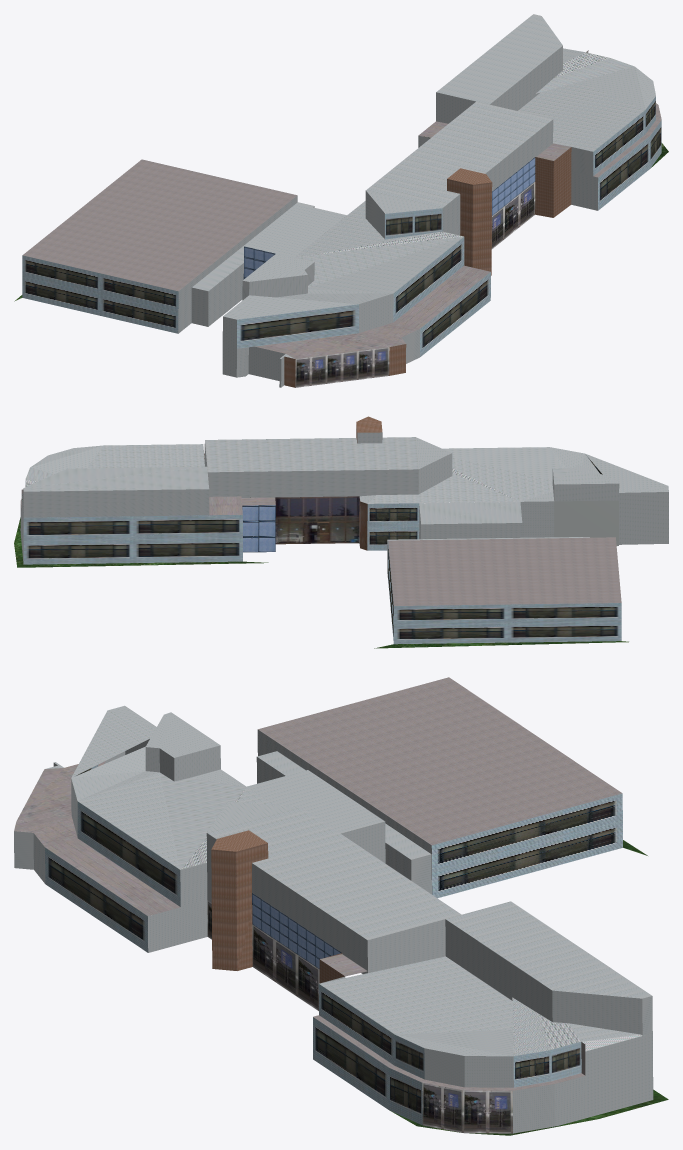
Rendered from MastersandDoctorate_Student Hall_Tool.obj.
3 renders of one model, top to bottom at view 1: azimuth 30°, elevation 25°; view 2: azimuth 150°, elevation 25°; view 3: azimuth 270°, elevation 25°, orthographic. The views are drawn at different scales.
Visible parts, largest first — view 1: VMtl1516, VMtl1419, VMtl1513, VMtl1518, VMtl1514, VMtl1512; view 2: VMtl1516, VMtl1513, VMtl1419, VMtl1517, VMtl674, VMtl1512, VMtl1518, VMtl1515; view 3: VMtl1516, VMtl1419, VMtl1513, VMtl1514, VMtl1518, VMtl1512, VMtl1515, VMtl674.
Boxes of the visible parts, <box> form: VMtl1516: <box>178,14,655,387</box>; VMtl1419: <box>23,50,661,358</box>; VMtl1513: <box>22,96,661,356</box>; VMtl1518: <box>284,147,571,387</box>; VMtl1514: <box>295,182,535,387</box>; VMtl1512: <box>243,157,535,279</box>; VMtl1516: <box>20,432,668,577</box>; VMtl1513: <box>23,455,621,644</box>; VMtl1419: <box>20,453,621,605</box>; VMtl1517: <box>275,496,359,544</box>; VMtl674: <box>14,517,628,648</box>; VMtl1512: <box>242,505,275,552</box>; VMtl1518: <box>204,425,367,550</box>; VMtl1515: <box>356,416,382,442</box>; VMtl1516: <box>14,705,653,1133</box>; VMtl1419: <box>14,677,622,1090</box>; VMtl1513: <box>45,764,622,1125</box>; VMtl1514: <box>207,900,512,1133</box>; VMtl1518: <box>211,843,344,983</box>; VMtl1512: <box>252,893,341,968</box>; VMtl1515: <box>211,830,268,970</box>; VMtl674: <box>391,840,668,1135</box>.
Bounding box in the file's own units: 135 × 18.42 × 90.56.
9 materials, 9 textured.
